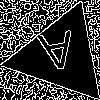A: (35, 30, 80, 81)
